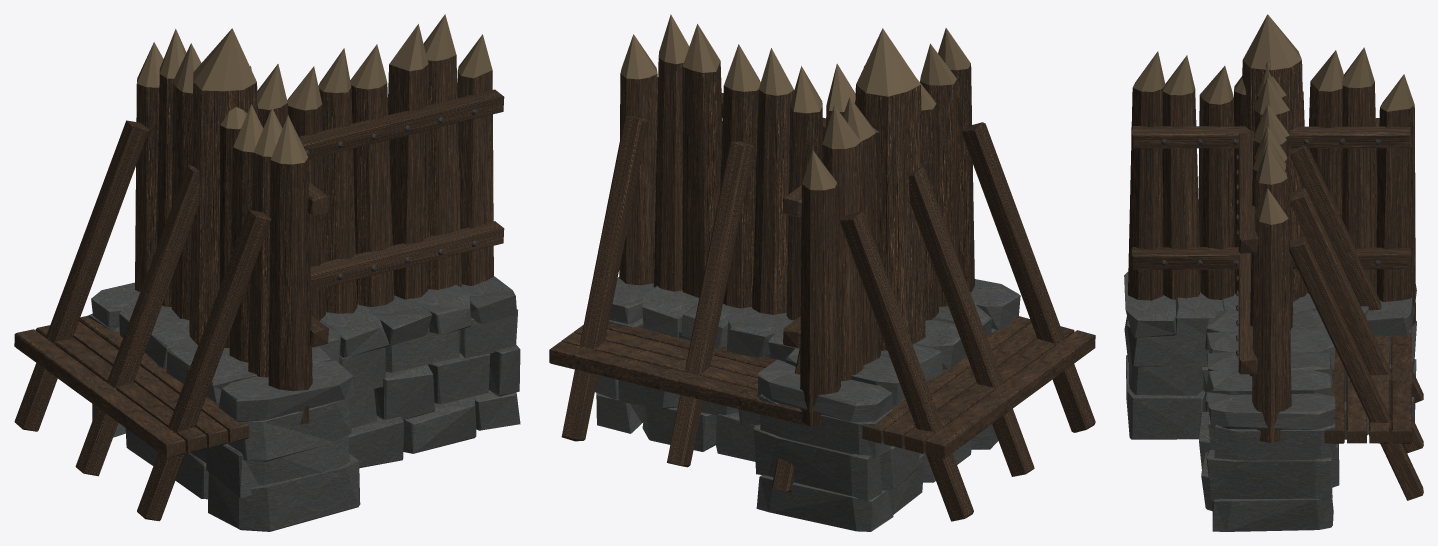
File: barrosan_palisade_corner_lod1.glb
The picture shows the model from 3 angles, left to right: view 1: azimuth 30°, elevation 25°; view 2: azimuth 150°, elevation 25°; view 3: azimuth 270°, elevation 25°; orthographic projection. The views are drawn at different scales.
Parts seen in each view (by area): view 1: barrosan_palisade_corner; view 2: barrosan_palisade_corner; view 3: barrosan_palisade_corner.
Part boxes in pixels (x1=…): barrosan_palisade_corner: x1=14, y1=14, x2=520, y2=531; barrosan_palisade_corner: x1=549, y1=14, x2=1095, y2=531; barrosan_palisade_corner: x1=1124, y1=14, x2=1423, y2=531.
Bounding box in the file's own units: 3.13 × 3.19 × 2.13.
Materials: 4 (3 with a texture image).
